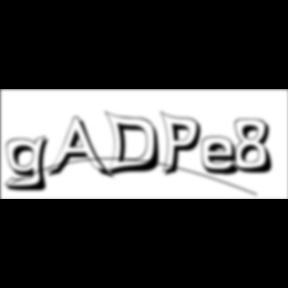8: (234, 117, 280, 176)
A: (46, 116, 116, 182)
D: (104, 110, 168, 180)
P: (160, 110, 207, 180)
e: (201, 135, 247, 178)
g: (4, 134, 56, 194)
